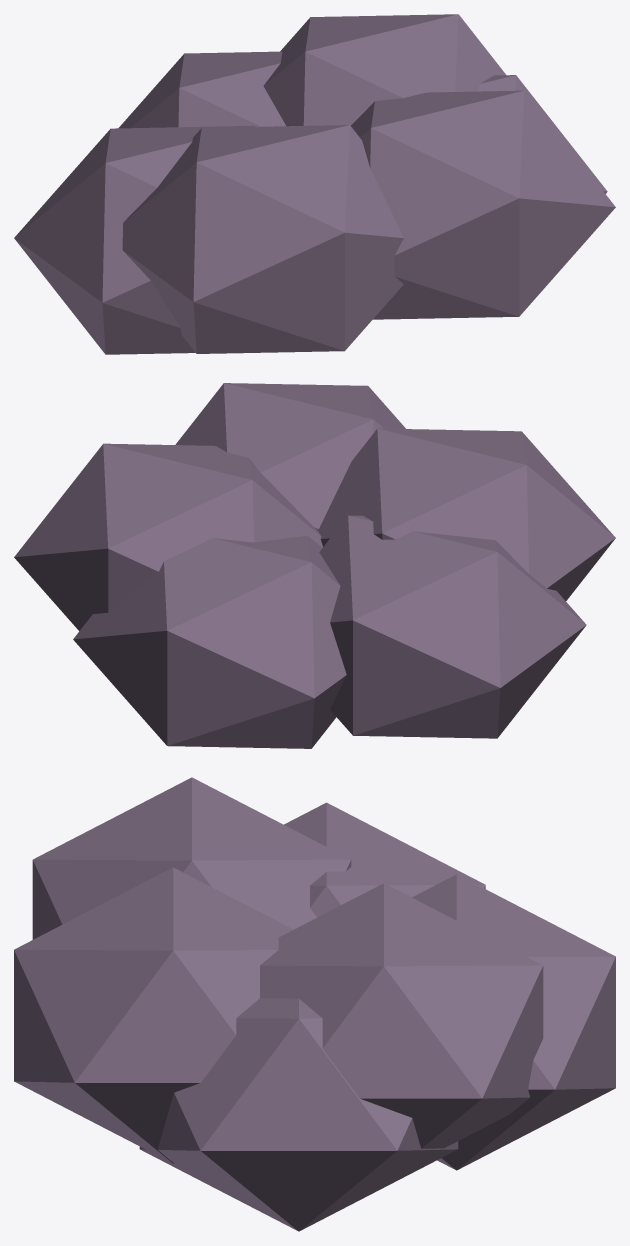
Rendered from heather.glb.
The picture shows the model from 3 angles, top to bottom: view 1: azimuth 30°, elevation 25°; view 2: azimuth 150°, elevation 25°; view 3: azimuth 270°, elevation 25°; orthographic projection. The views are drawn at different scales.
Parts seen in each view (by area): view 1: Вереск; view 2: Вереск; view 3: Вереск.
Part boxes in pixels (x1,y1,x2,y2): Вереск: [14, 14, 615, 354]; Вереск: [14, 383, 615, 748]; Вереск: [14, 777, 615, 1231].
Bounding box in the file's own units: 2.2 × 0.9766 × 2.09.
